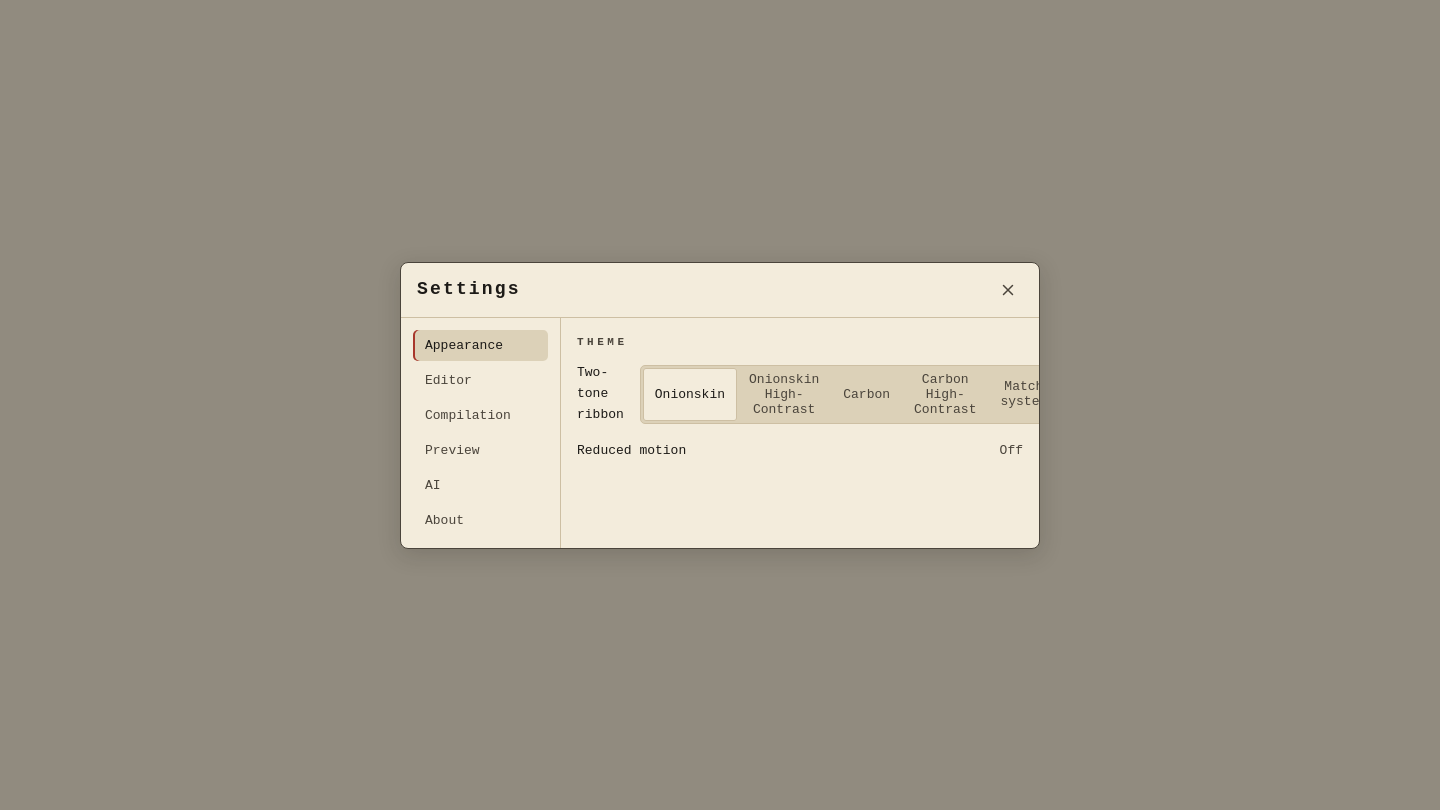
Test: Settings — Editor section › shows the Editor section with keymap and spell-check controls
Step 1. Click the button "Editor" → x=480, y=380, box [413,364,548,396]
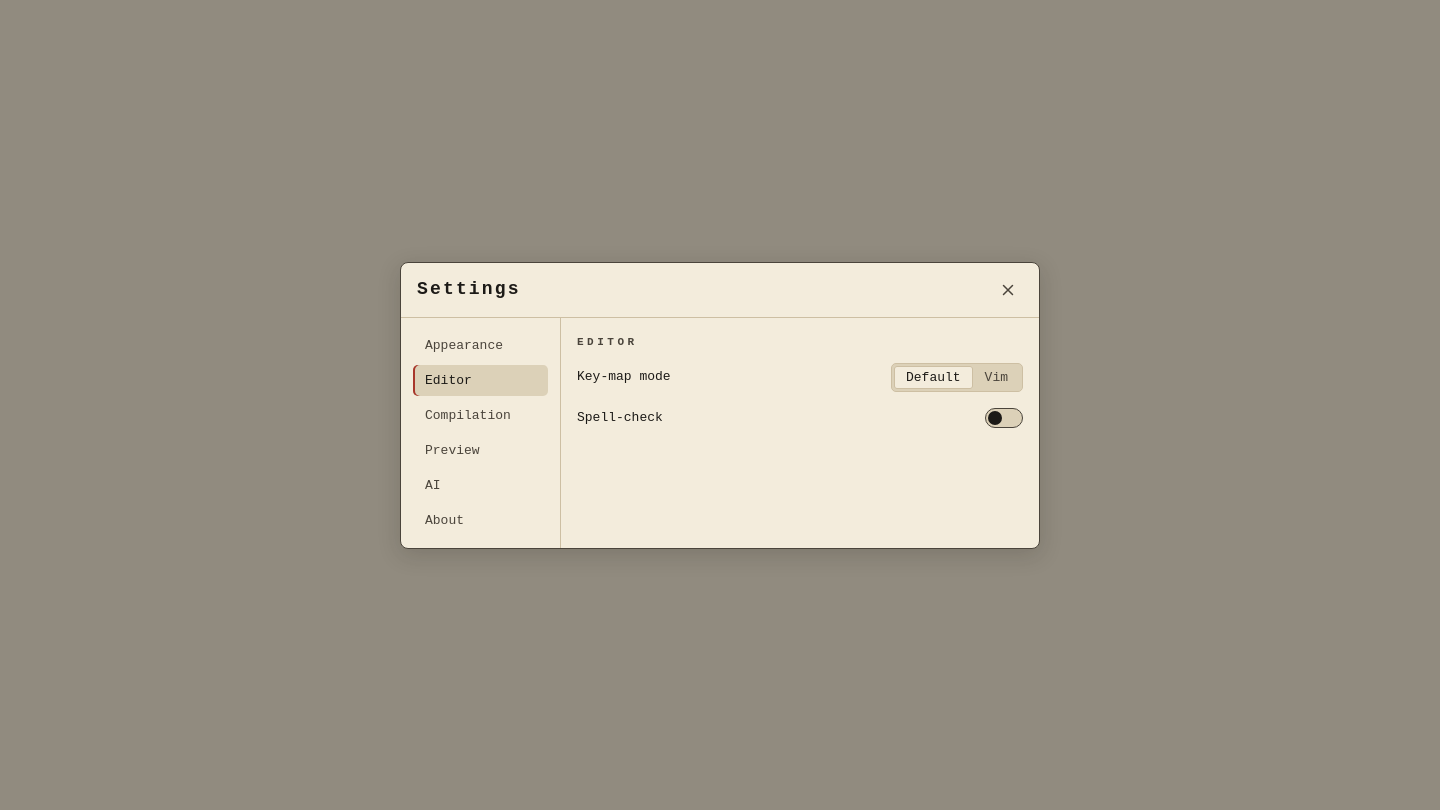
Now the text "Key-map mode" is shown, box [577,367,671,388]
Now the text "Spell-check" is shown, box [577,408,663,429]
